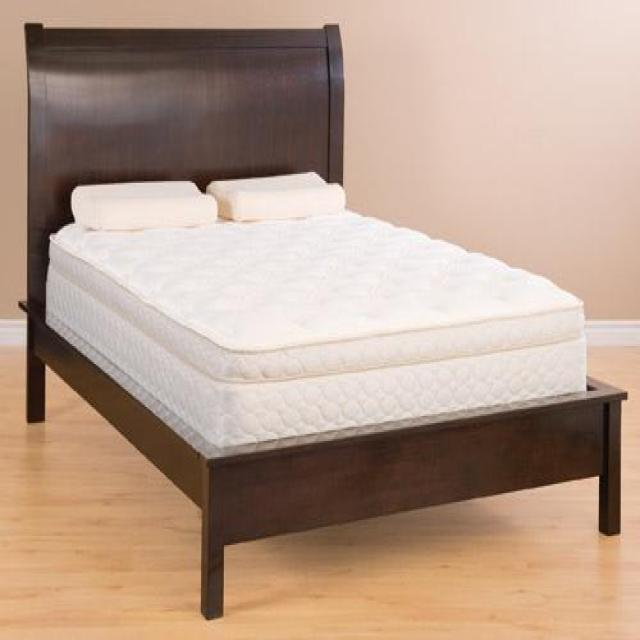bed: (18, 20, 627, 620)
